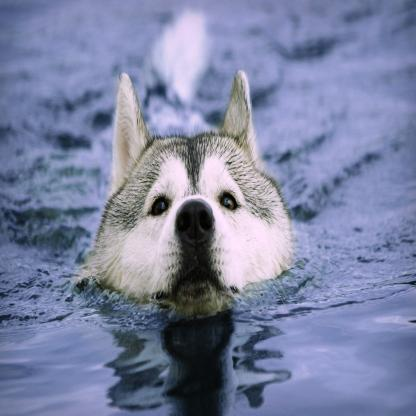husky: (74, 69, 294, 313)
